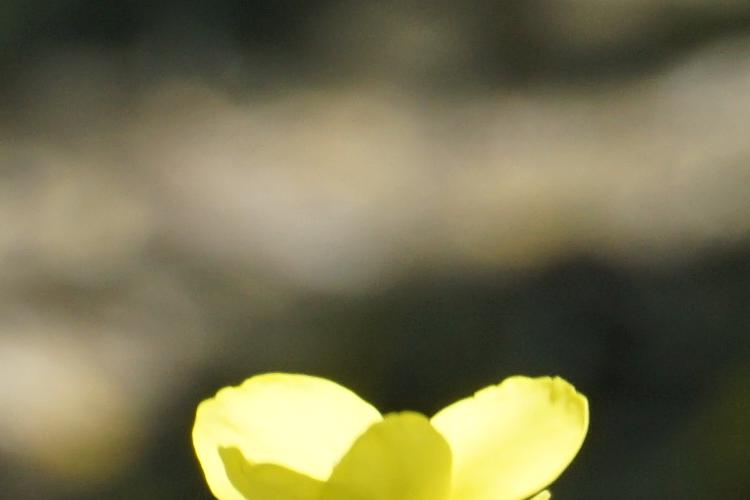yellow: (166, 343, 596, 500)
